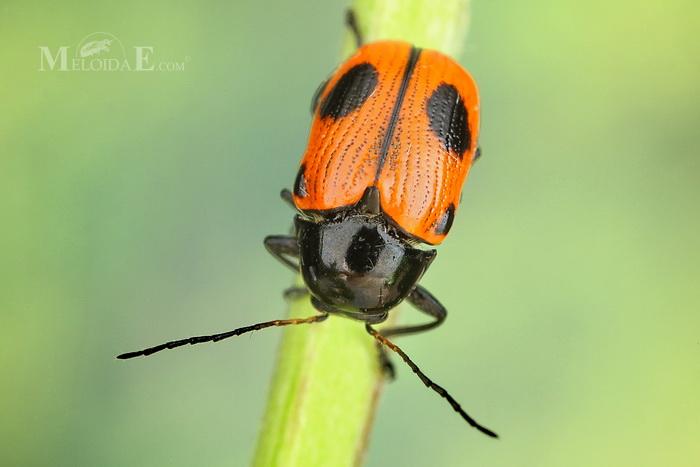Cryptocephalus_bipunctatus: (104, 7, 505, 446)
